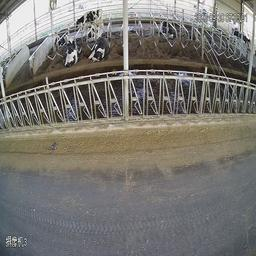cow: (69, 11, 97, 35), (88, 34, 111, 63), (62, 38, 78, 68), (158, 18, 176, 40)
